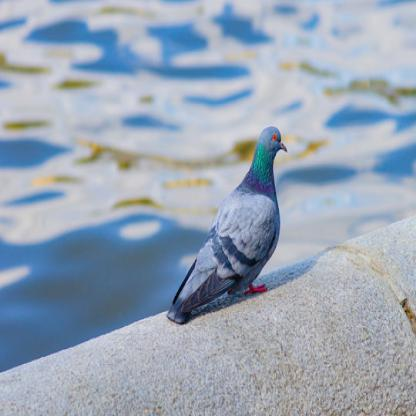Flying Rat: (165, 125, 290, 339)
